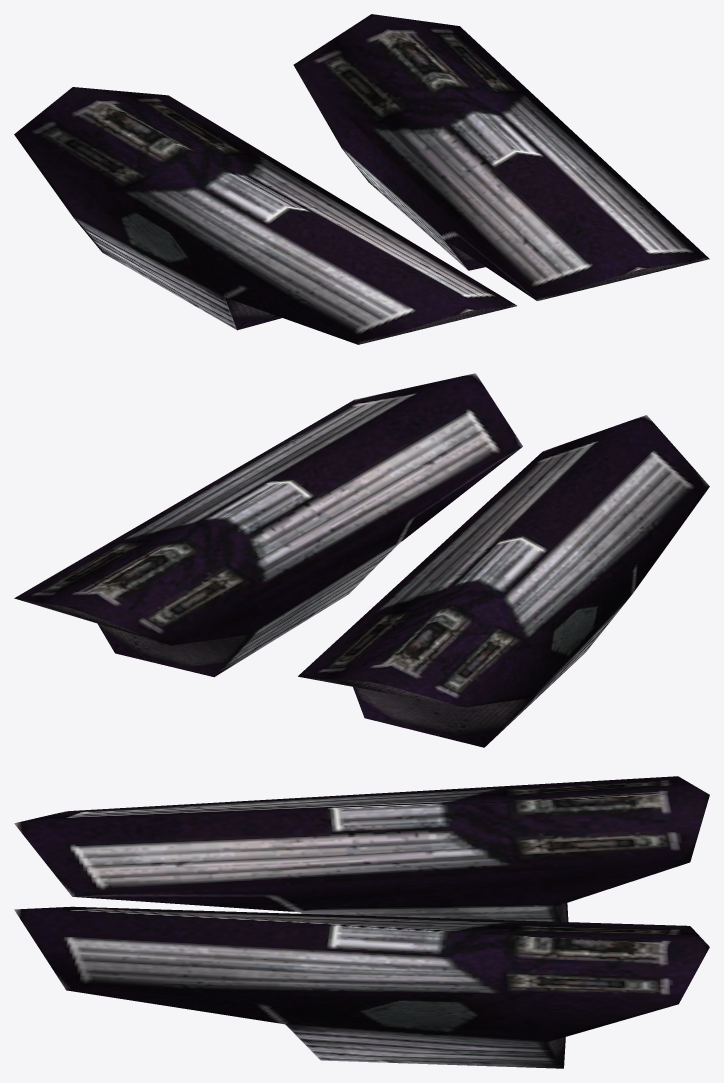
File: ArmPads5__EC.glb
3 renders of one model, top to bottom at view 1: azimuth 30°, elevation 25°; view 2: azimuth 150°, elevation 25°; view 3: azimuth 270°, elevation 25°, orthographic. The views are drawn at different scales.
Parts seen in each view (by area): view 1: ArmPads5; view 2: ArmPads5; view 3: ArmPads5.
Boxes of the visible parts, x1,y1,x2,y2 form: ArmPads5: [14, 14, 709, 344]; ArmPads5: [14, 373, 709, 747]; ArmPads5: [14, 776, 709, 1068].
Size of the model in its own units: 15.84 by 3.67 by 20.13.
Materials: 1 (1 with a texture image).
